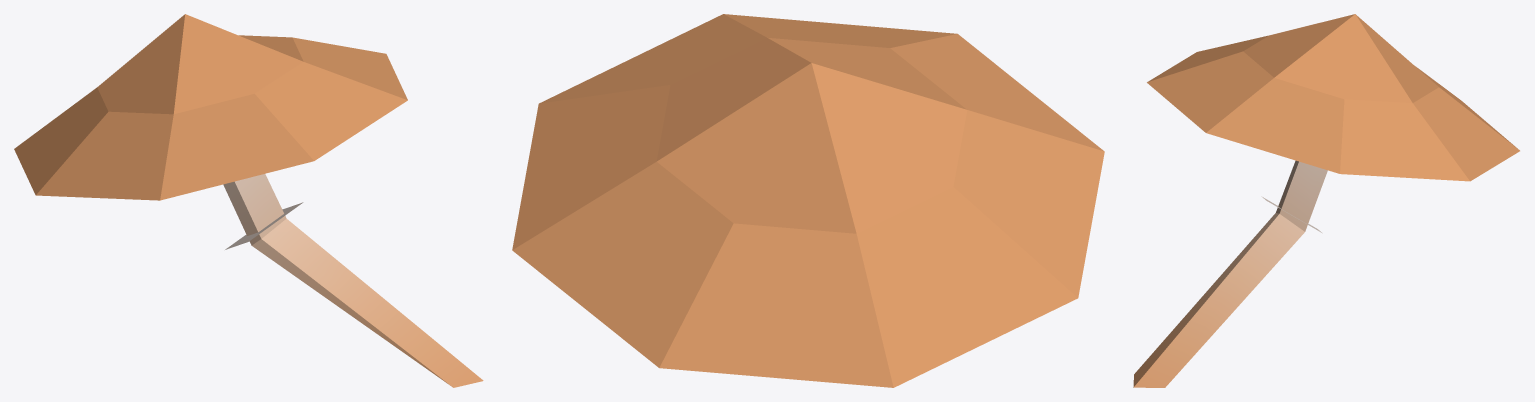
Rendered from Mushroom_i_03.fbx.
3 views of the same model, side by side, from view 1: azimuth 30°, elevation 25°; view 2: azimuth 150°, elevation 25°; view 3: azimuth 270°, elevation 25° (orthographic). The views are drawn at different scales.
Visible parts, largest first — view 1: Mushroom_i_03; view 2: Mushroom_i_03; view 3: Mushroom_i_03.
Part boxes in pixels (<box>): Mushroom_i_03: <box>14,14,483,387</box>; Mushroom_i_03: <box>512,14,1104,387</box>; Mushroom_i_03: <box>1133,14,1519,387</box>.
Bounding box in the file's own units: 24.41 × 20.97 × 24.99.
